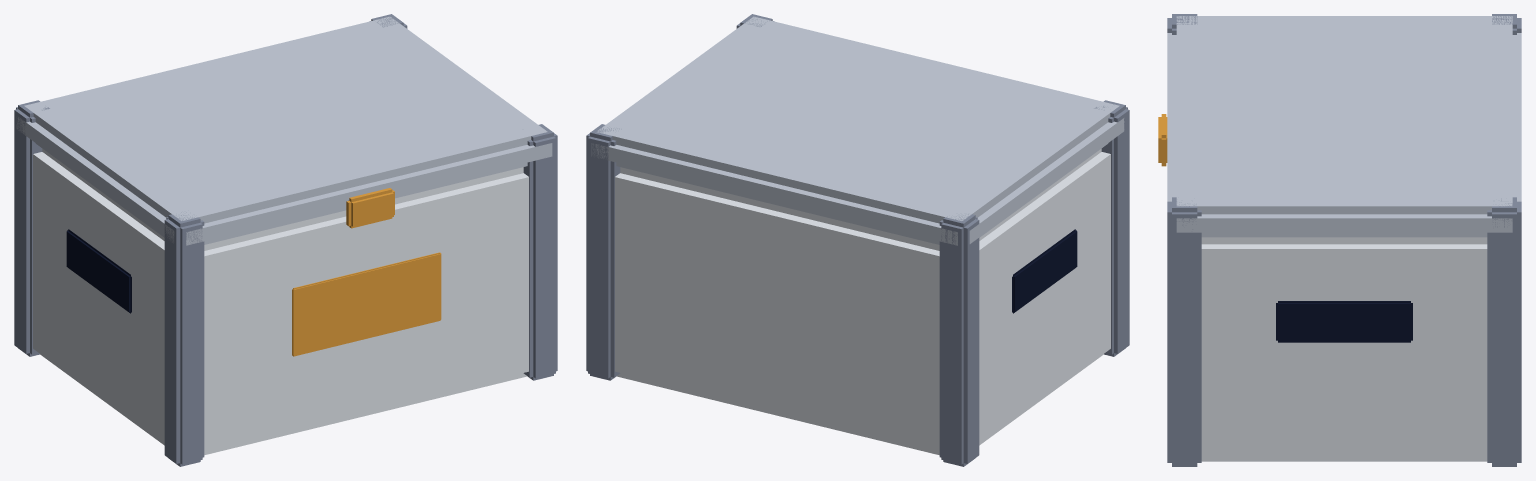
Rendered from seed_crate.glb.
The picture shows the model from 3 angles, left to right: view 1: azimuth 30°, elevation 25°; view 2: azimuth 150°, elevation 25°; view 3: azimuth 270°, elevation 25°; orthographic projection. The views are drawn at different scales.
Visible parts, largest first — view 1: Body_White, Body_Dim, Steel, Trim_Gold, Dark_Panel; view 2: Body_White, Body_Dim, Steel, Dark_Panel; view 3: Body_Dim, Body_White, Steel, Dark_Panel, Trim_Gold.
Part boxes in pixels (x1,y1,x2,y2): Body_White: (33,148,528,455); Body_Dim: (16,16,552,245); Steel: (14,14,557,466); Trim_Gold: (292,188,441,356); Dark_Panel: (66,229,131,313); Body_White: (615,148,1110,455); Body_Dim: (591,16,1124,245); Steel: (586,14,1129,466); Dark_Panel: (1012,229,1077,313); Body_Dim: (1167,16,1521,237); Body_White: (1201,237,1487,461); Steel: (1167,14,1521,466); Dark_Panel: (1276,301,1412,342); Trim_Gold: (1158,114,1167,166).
Bounding box in the file's own units: 0.41 × 0.25 × 0.318.
